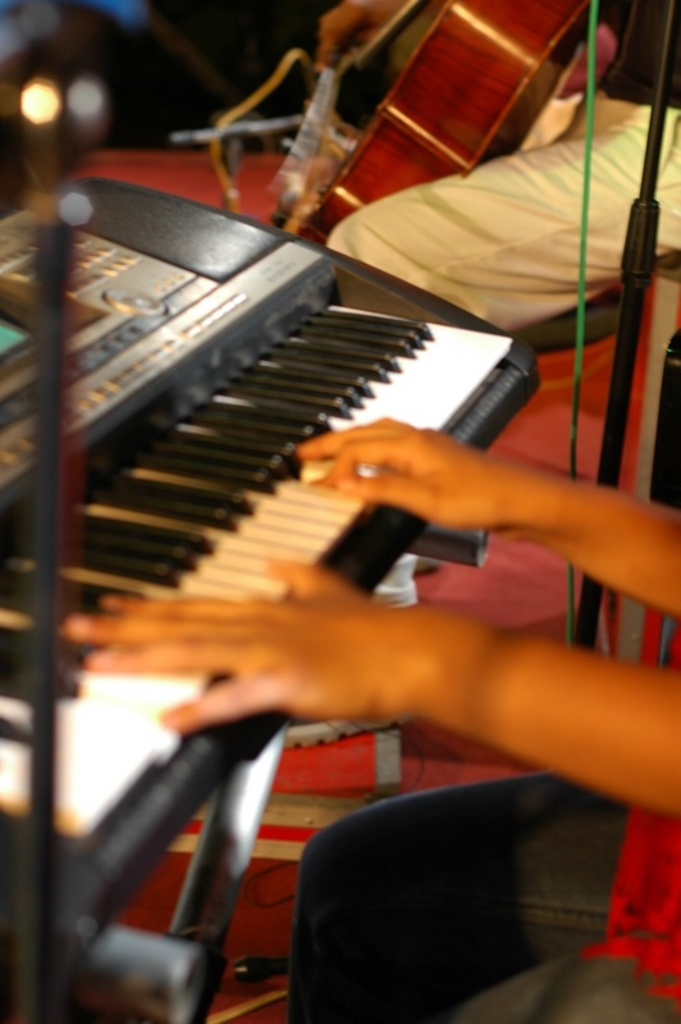Human_hand: (109, 556, 654, 826), (294, 413, 513, 534), (311, 0, 406, 77)
